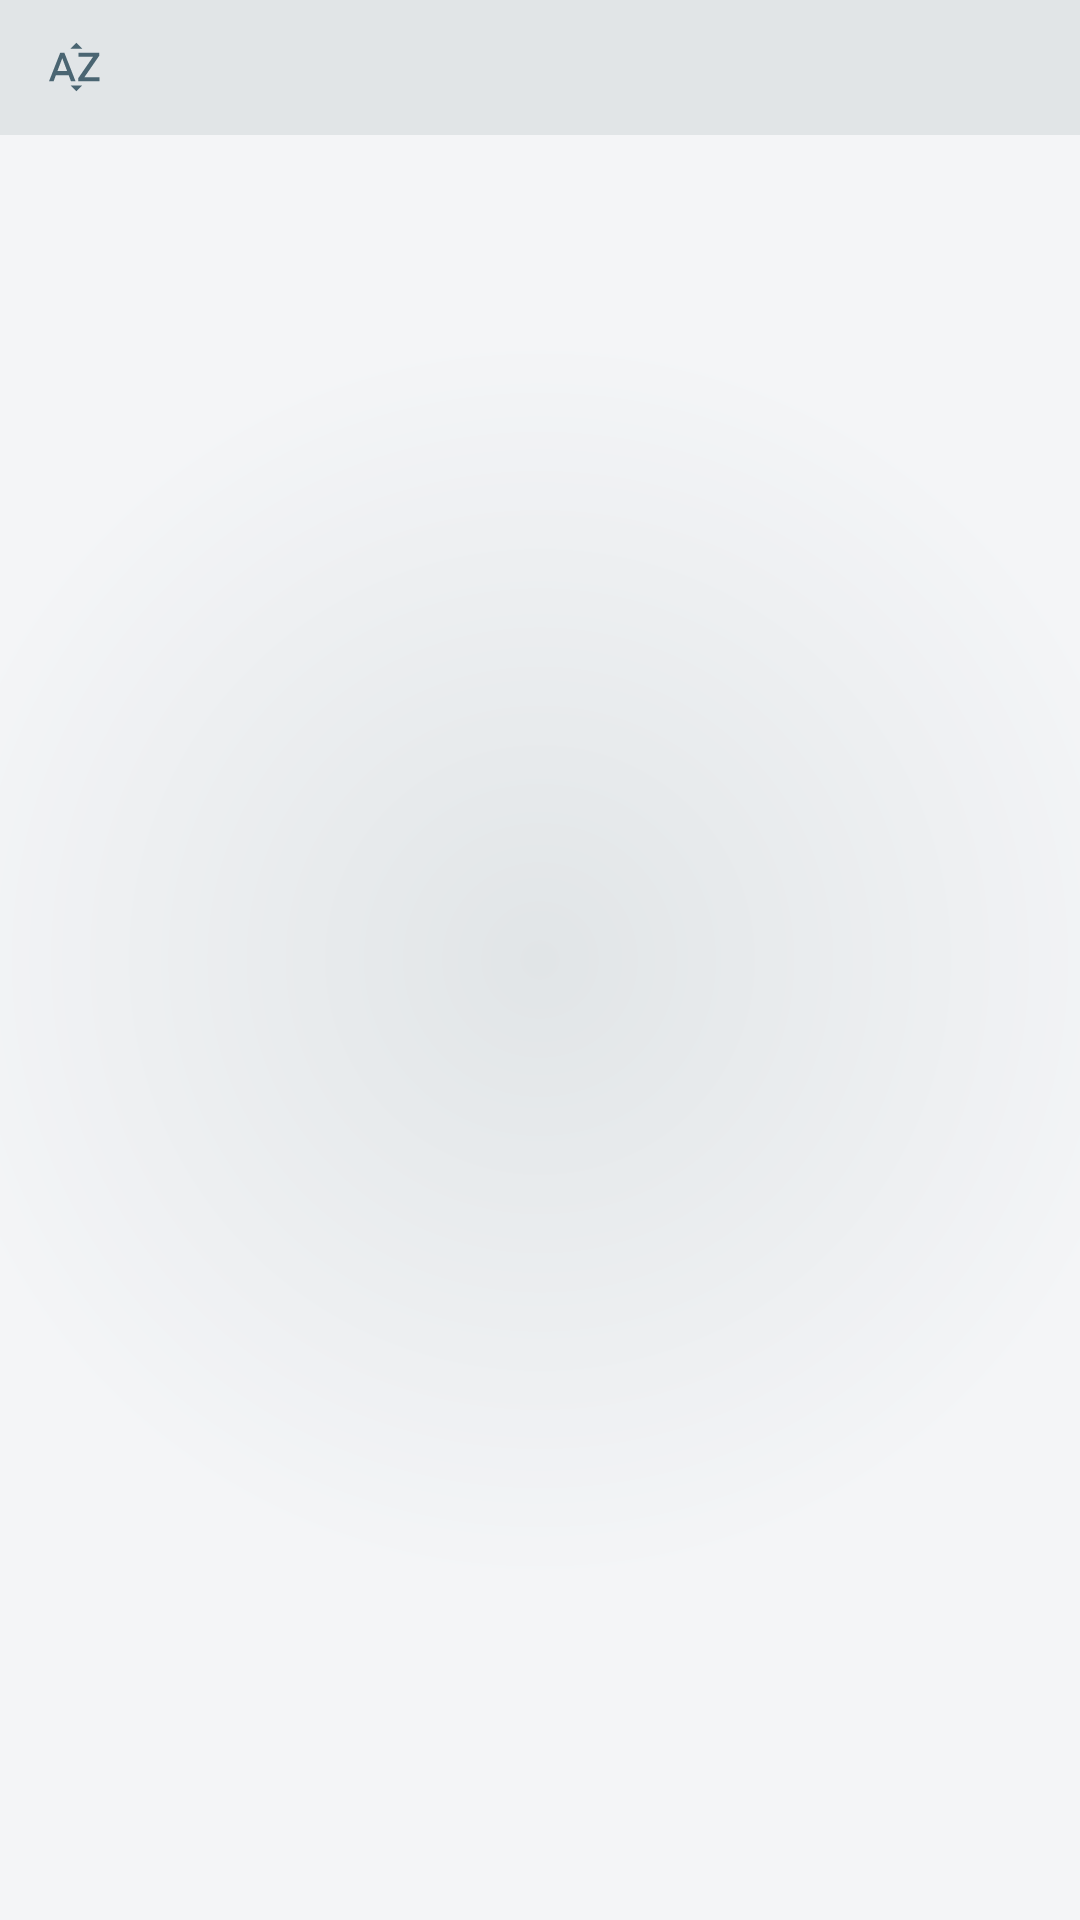

Point at icon controls on the screen. Image size 1080w x 1920h, points as [x,y].
ordenar: [74,67]
